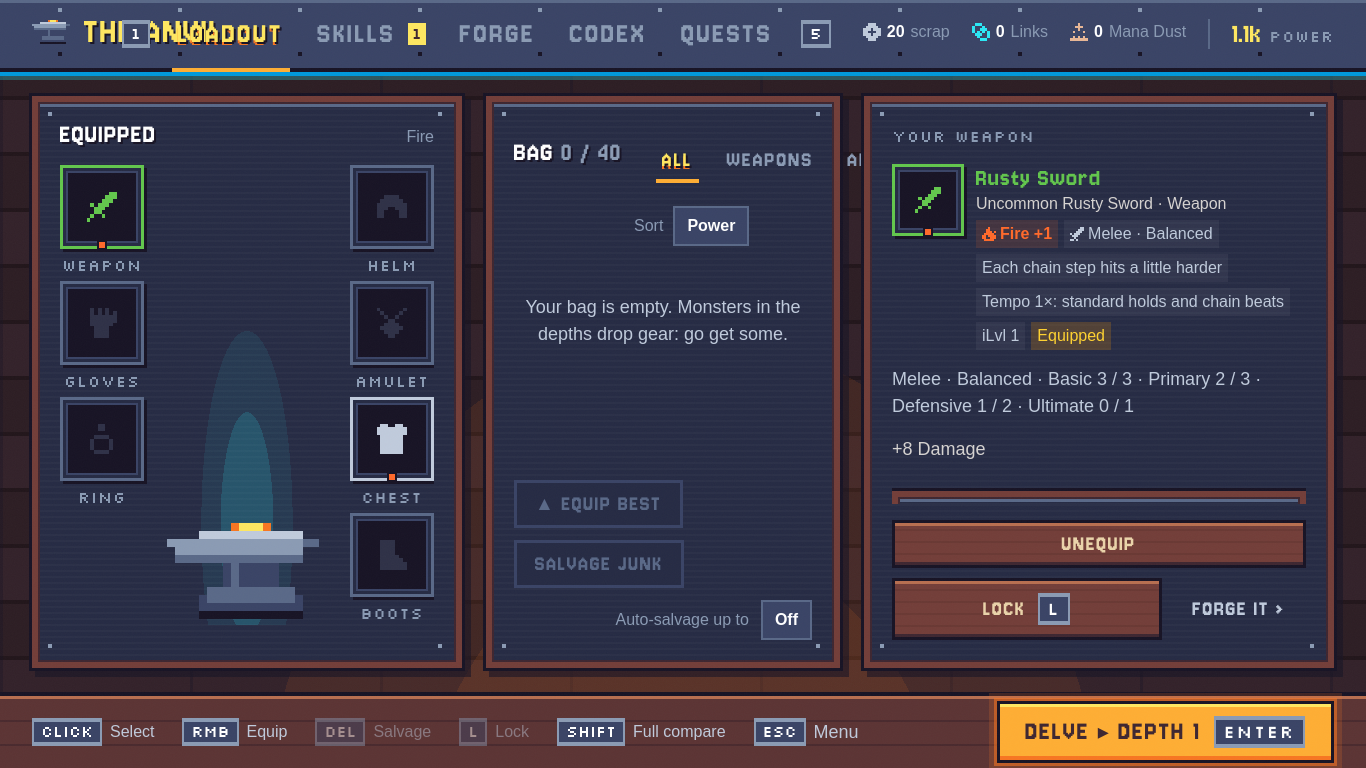
Test: DelveCamp › Apply's total holds a socket's Links and scrap, and the engine's reason
This screenshot has width=1366, height=768.
What coordinates should you click on to do the following:
click the button with test id "depart-button"
I would click on:
 (1165, 732)
Its box is [996, 701, 1334, 763].
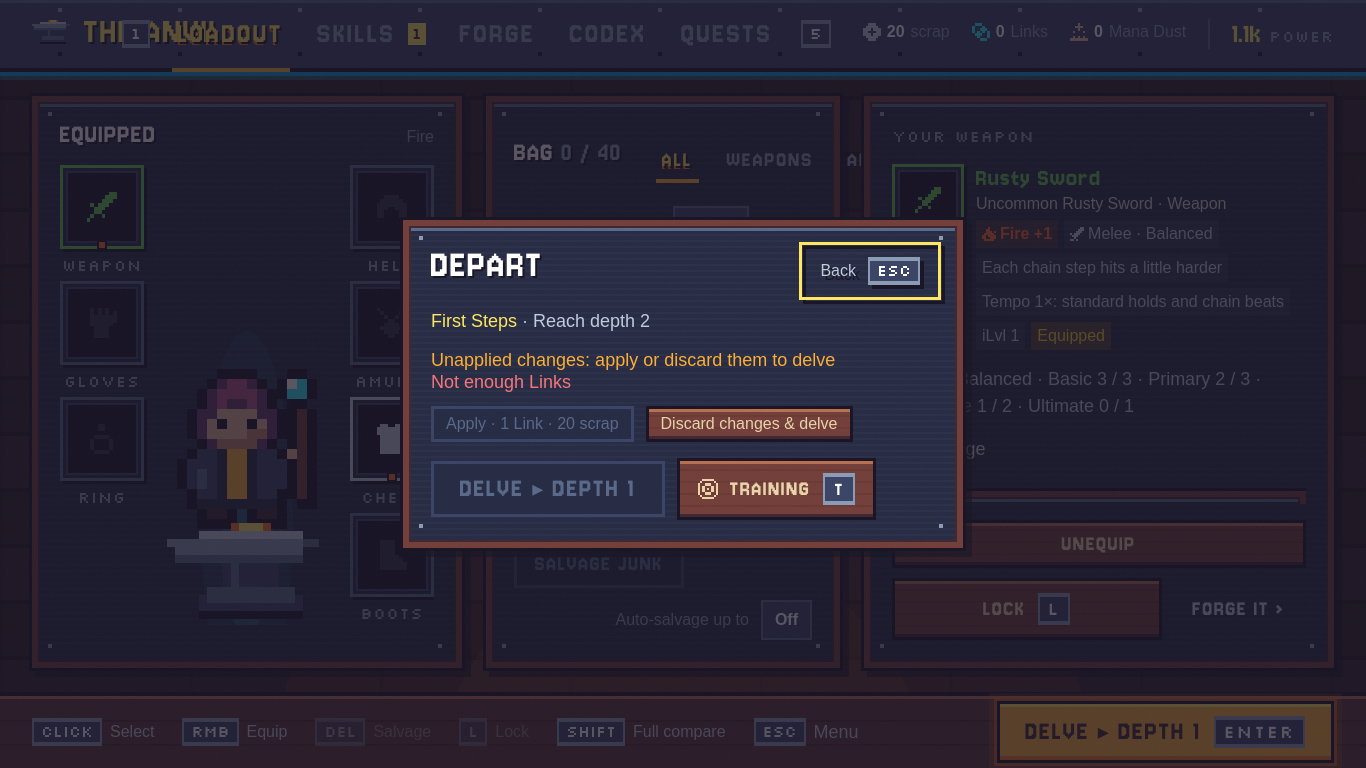
Now the button with test id "draft-apply" reads "Apply · 1 Link · 20 scrap", box [431, 406, 634, 442]
Now the button with test id "draft-apply" is disabled, box [431, 406, 634, 442]
Now the text with test id "draft-apply-why" shows "Links", box [431, 372, 571, 392]
